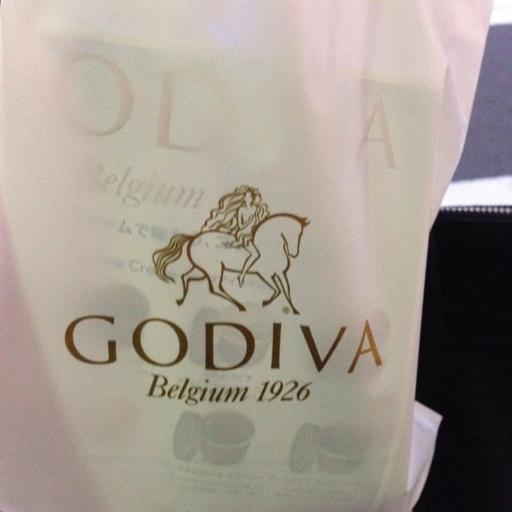horse: (150, 212, 314, 315)
